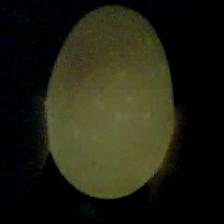infertile: (43, 4, 175, 200)
